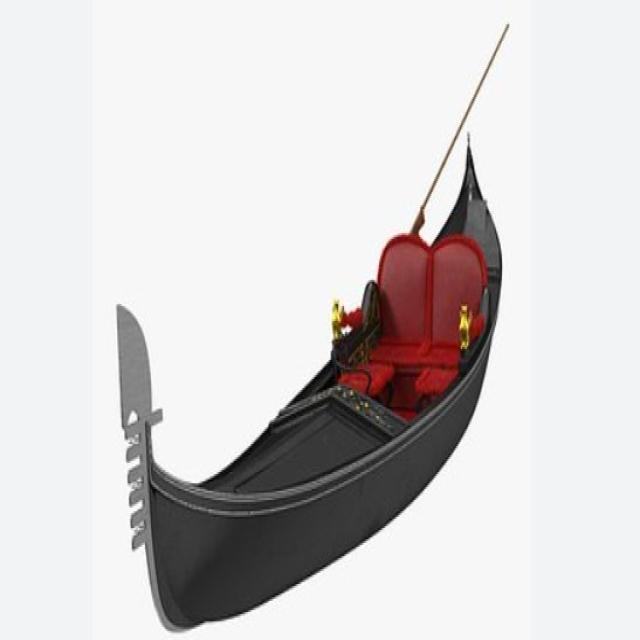boat: (93, 114, 525, 636)
